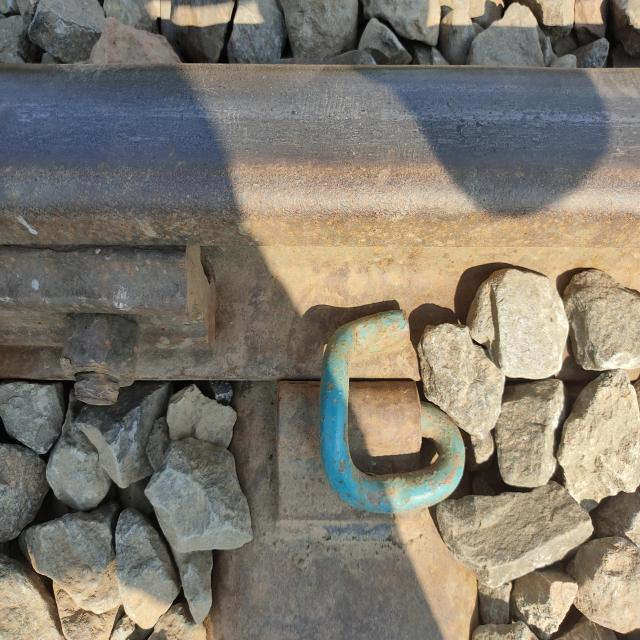broken_rail_medium: (456, 116, 486, 136)
